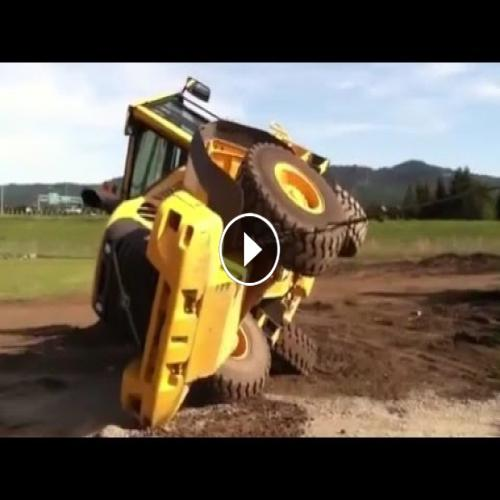con_eq: (80, 84, 357, 406)
